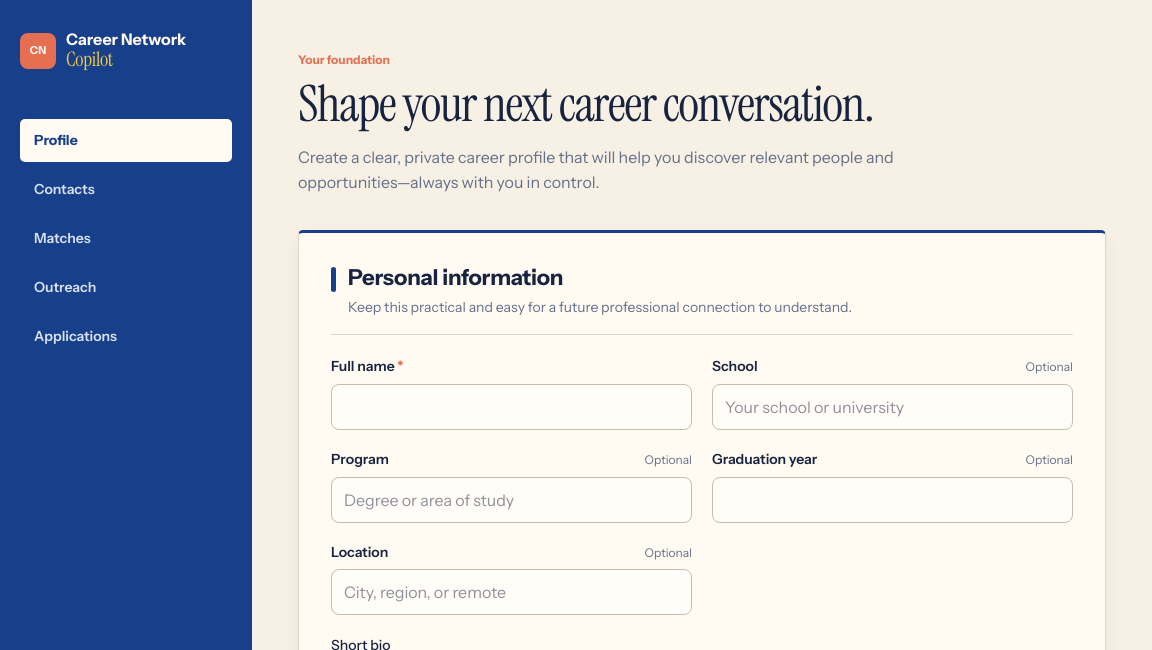
Test: student profile onboarding › shows API errors
This screenshot has width=1152, height=650.
Type "Demo Student" into the field labelled "Full name". click: (512, 407)
box: 331,384 -> 692,430
(page scrolled)
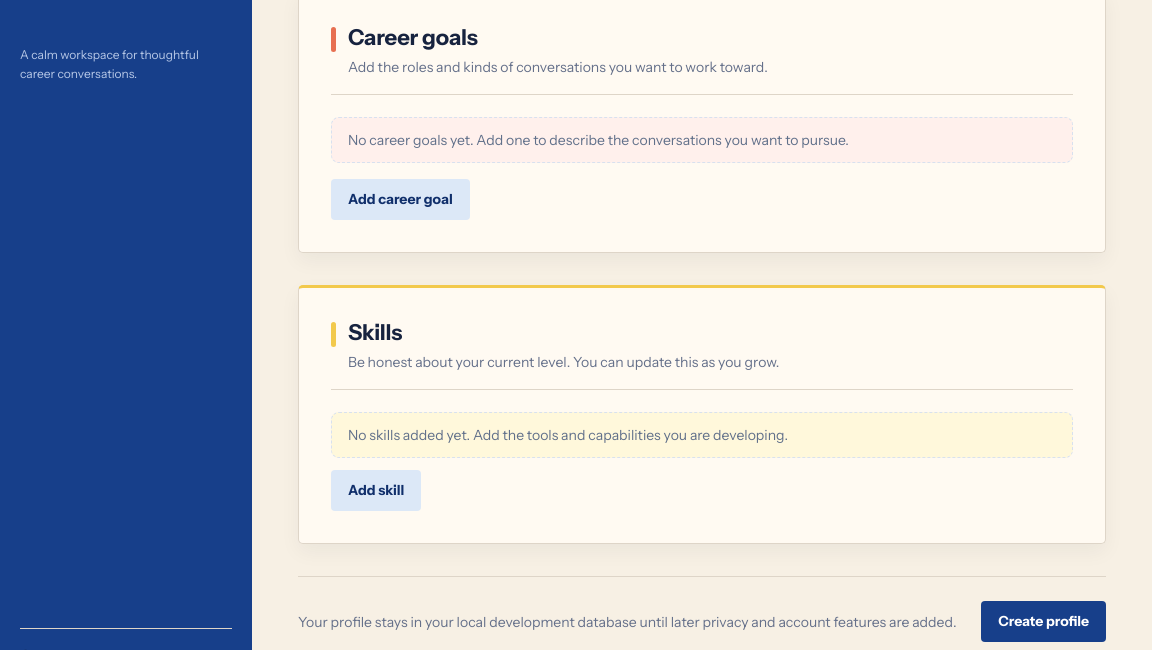
Click the button "Create profile". click: (1044, 622)
box: 981,601 -> 1106,642
(page scrolled)
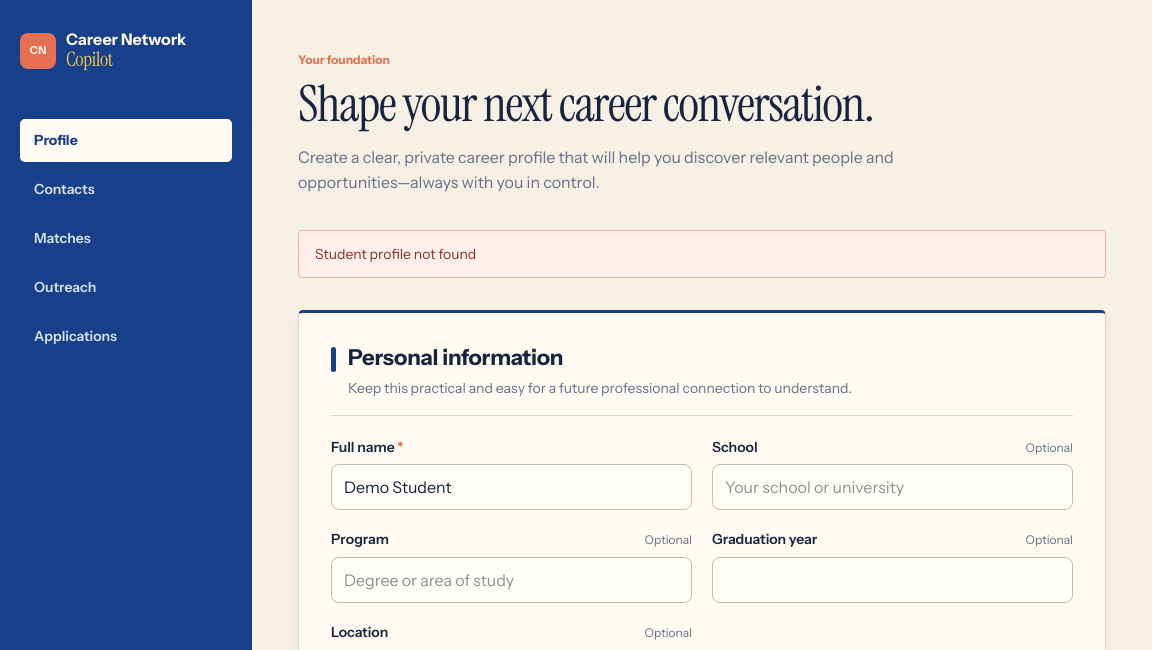
expect the text "Student profile not found" is shown: met, box 298,230 -> 1106,278
